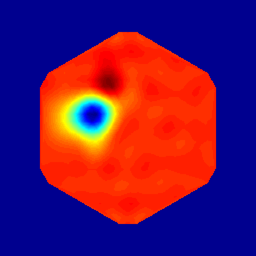ship: (86, 99, 105, 129)
wave: (93, 76, 113, 106)
